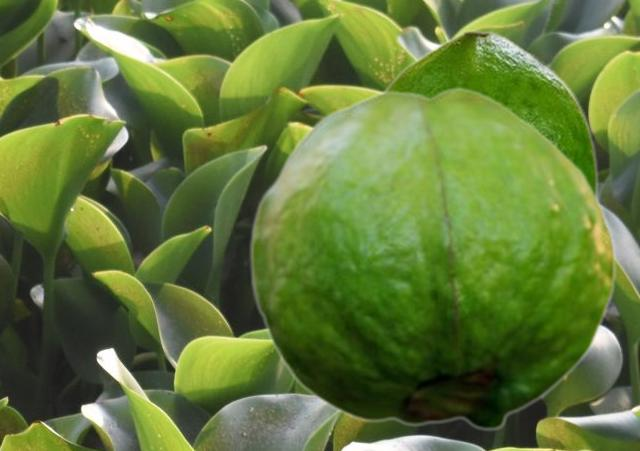guava: (249, 86, 615, 431), (383, 29, 598, 195)
